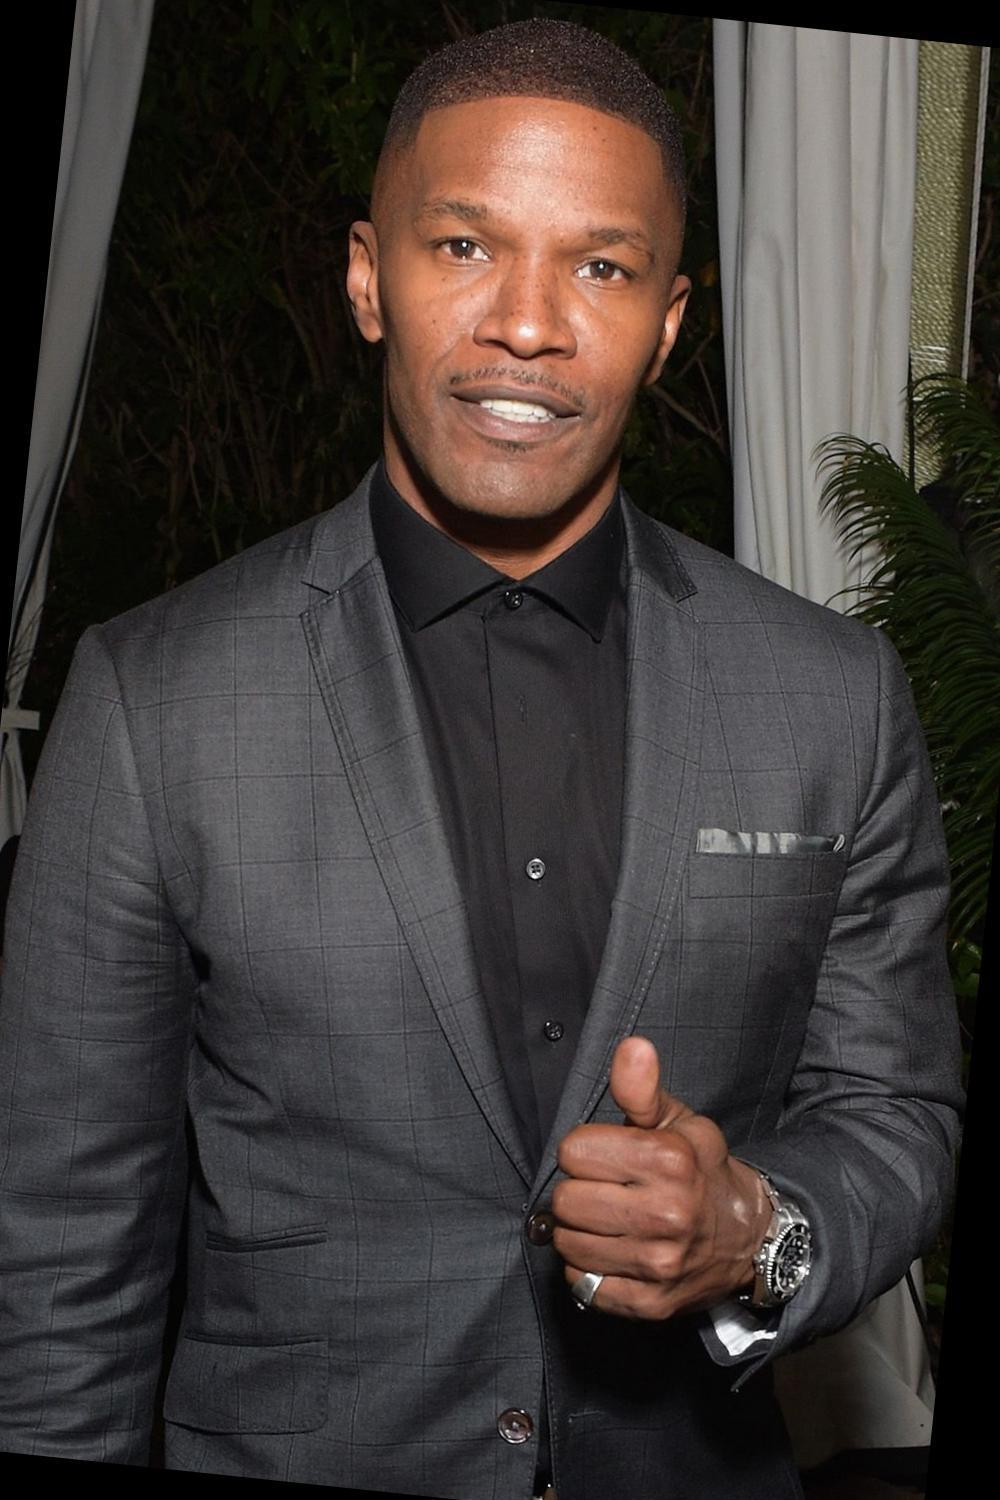Sober: (401, 110, 645, 502)
